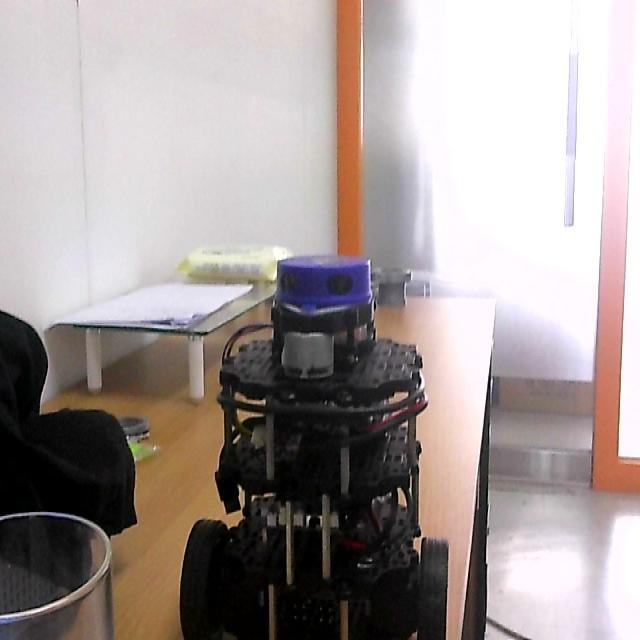turtle: (176, 254, 451, 640)
